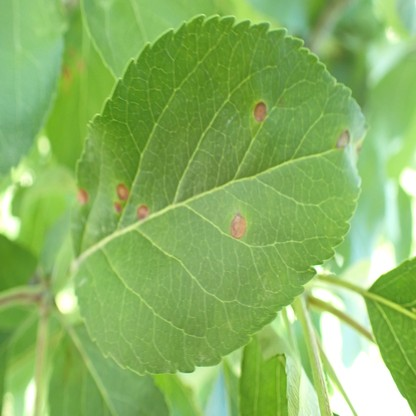frogeye_leaf_spot: (231, 213, 246, 239), (335, 130, 352, 149), (254, 102, 267, 121), (117, 183, 129, 201), (135, 205, 149, 217), (78, 187, 87, 201), (113, 202, 122, 211)
